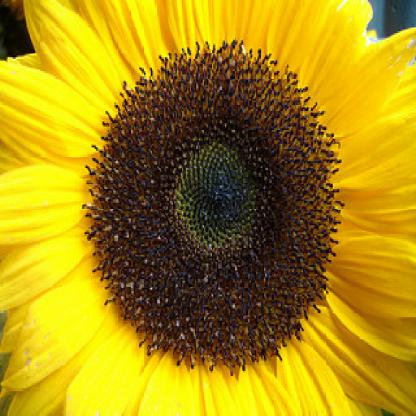SUN FLOWER: (59, 3, 369, 415)
